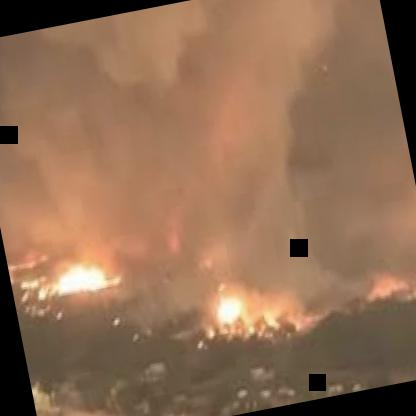fire: (190, 228, 314, 376), (29, 218, 148, 340)
